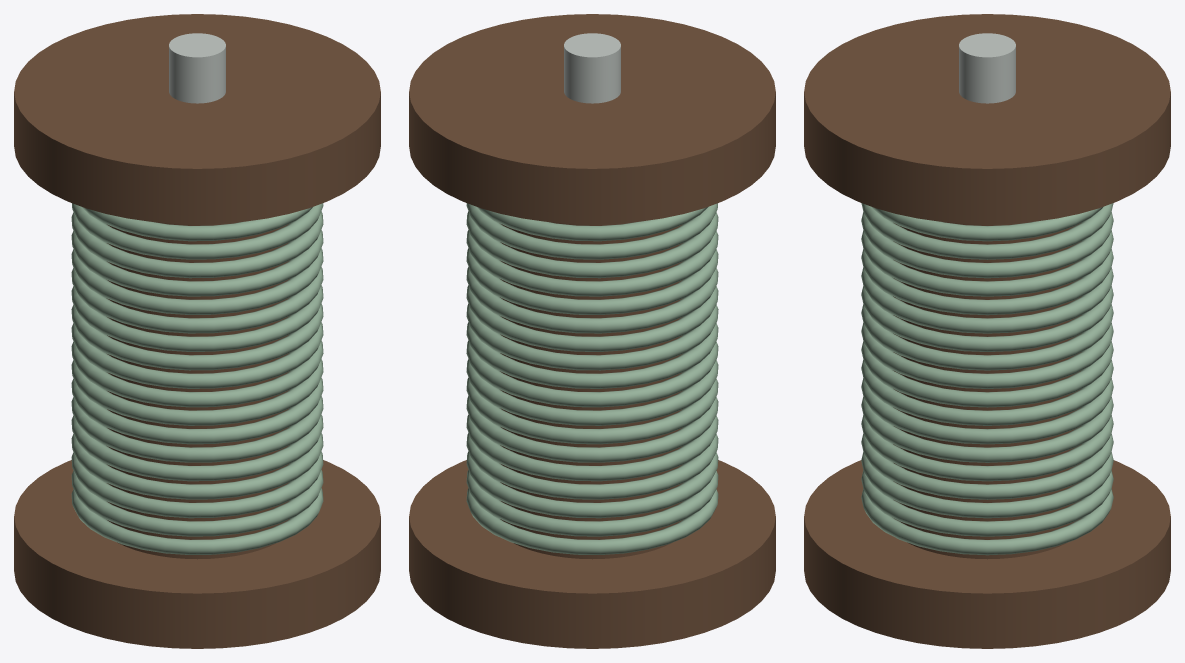
The model's file is abandoned-telephone-exchange-jumper-wire-spool-1c0c11fc__32002.glb.
The picture shows the model from 3 angles, left to right: view 1: azimuth 30°, elevation 25°; view 2: azimuth 150°, elevation 25°; view 3: azimuth 270°, elevation 25°; orthographic projection.
Visible parts, largest first — view 1: jumper-wire-spool; view 2: jumper-wire-spool; view 3: jumper-wire-spool.
Boxes of the visible parts, x1,y1,x2,y2 form: jumper-wire-spool: [14, 14, 380, 648]; jumper-wire-spool: [409, 14, 775, 648]; jumper-wire-spool: [804, 14, 1170, 648].
Size of the model in its own units: 0.18 by 0.285 by 0.18.
